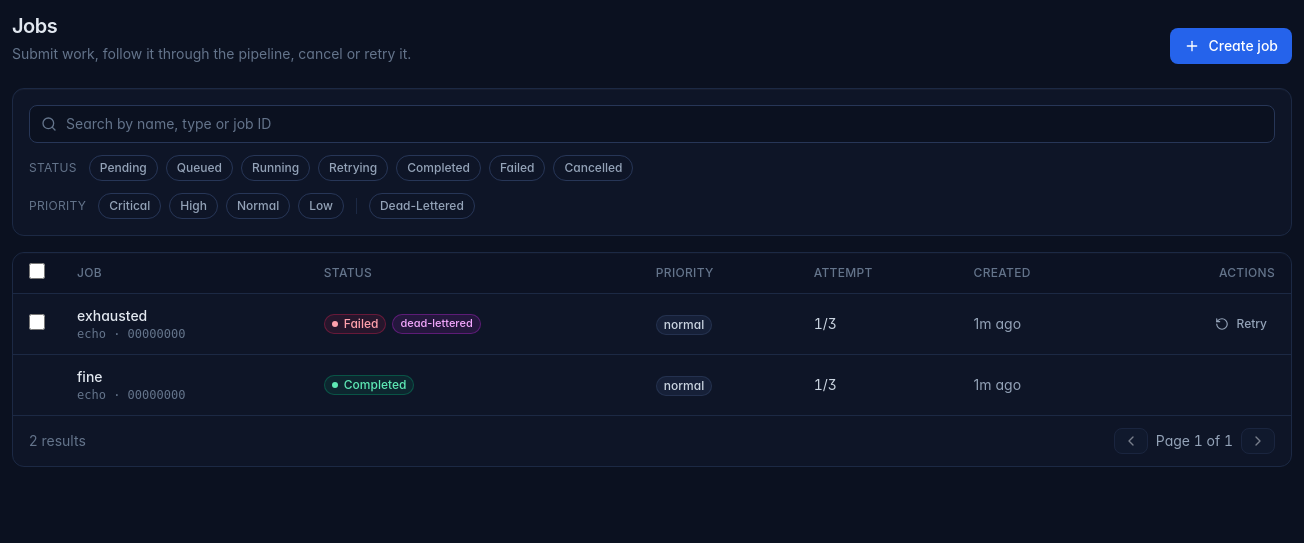
<JobsPage> › filters dead-lettered jobs and marks them in the table
The image size is (1304, 543).
Expected: the text "fine" is shown, [77, 368, 102, 385]
Expected: the text "dead-lettered" is shown, [392, 314, 481, 334]
Click the button "Dead-lettered". click: (422, 206)
box: [369, 193, 475, 219]
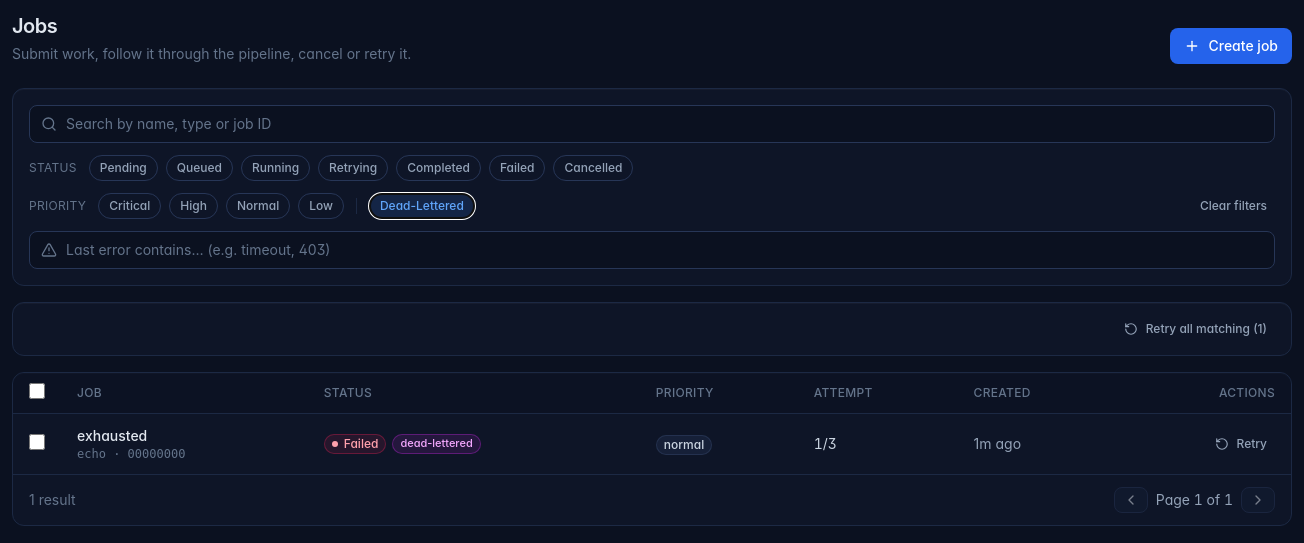
Expected: the text "exhausted" is shown, [77, 427, 147, 444]
Expected: the text "fine" is gone
